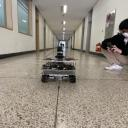cart: (41, 58, 77, 84)
